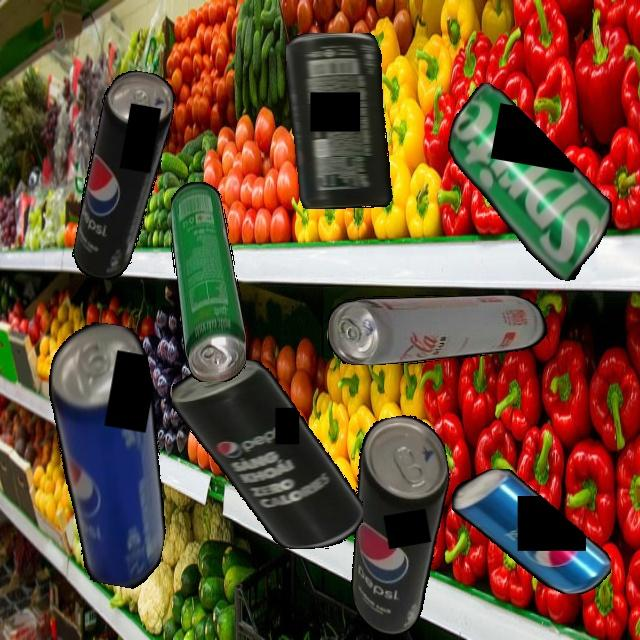debris: (16, 316, 199, 592), (429, 79, 630, 286), (171, 360, 363, 549), (324, 410, 475, 640), (69, 66, 179, 285), (451, 469, 611, 594), (286, 32, 393, 209), (328, 294, 550, 365), (170, 181, 246, 382)
